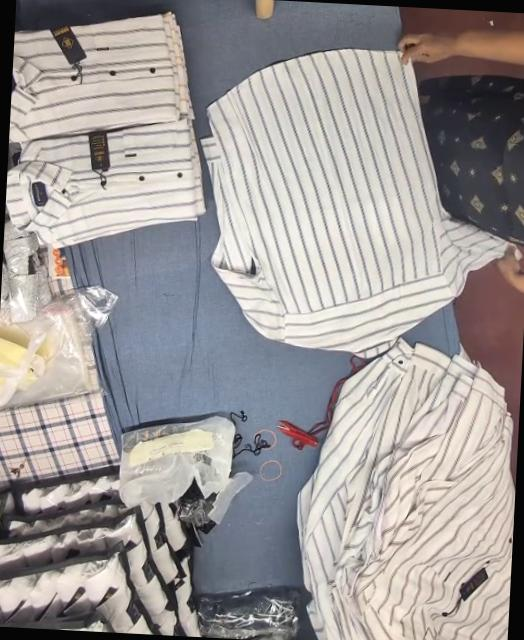new-garment: (203, 49, 501, 355)
